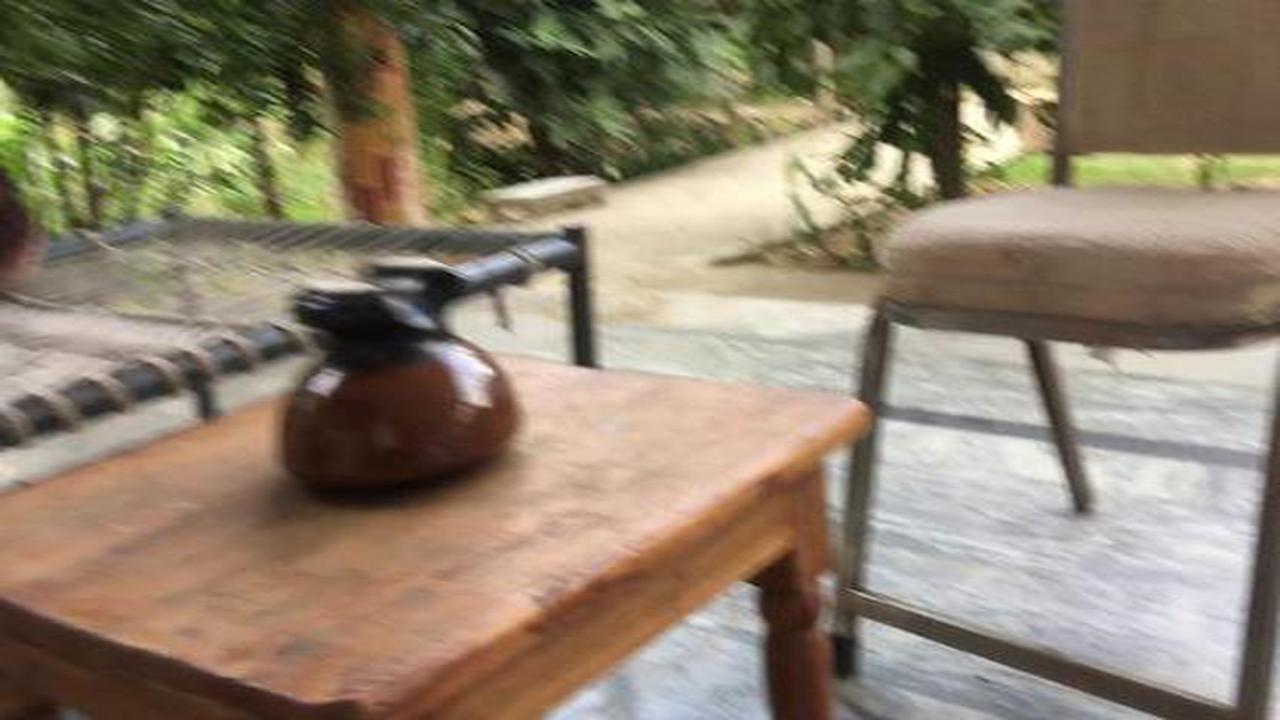insulator_pin: (268, 248, 530, 513)
